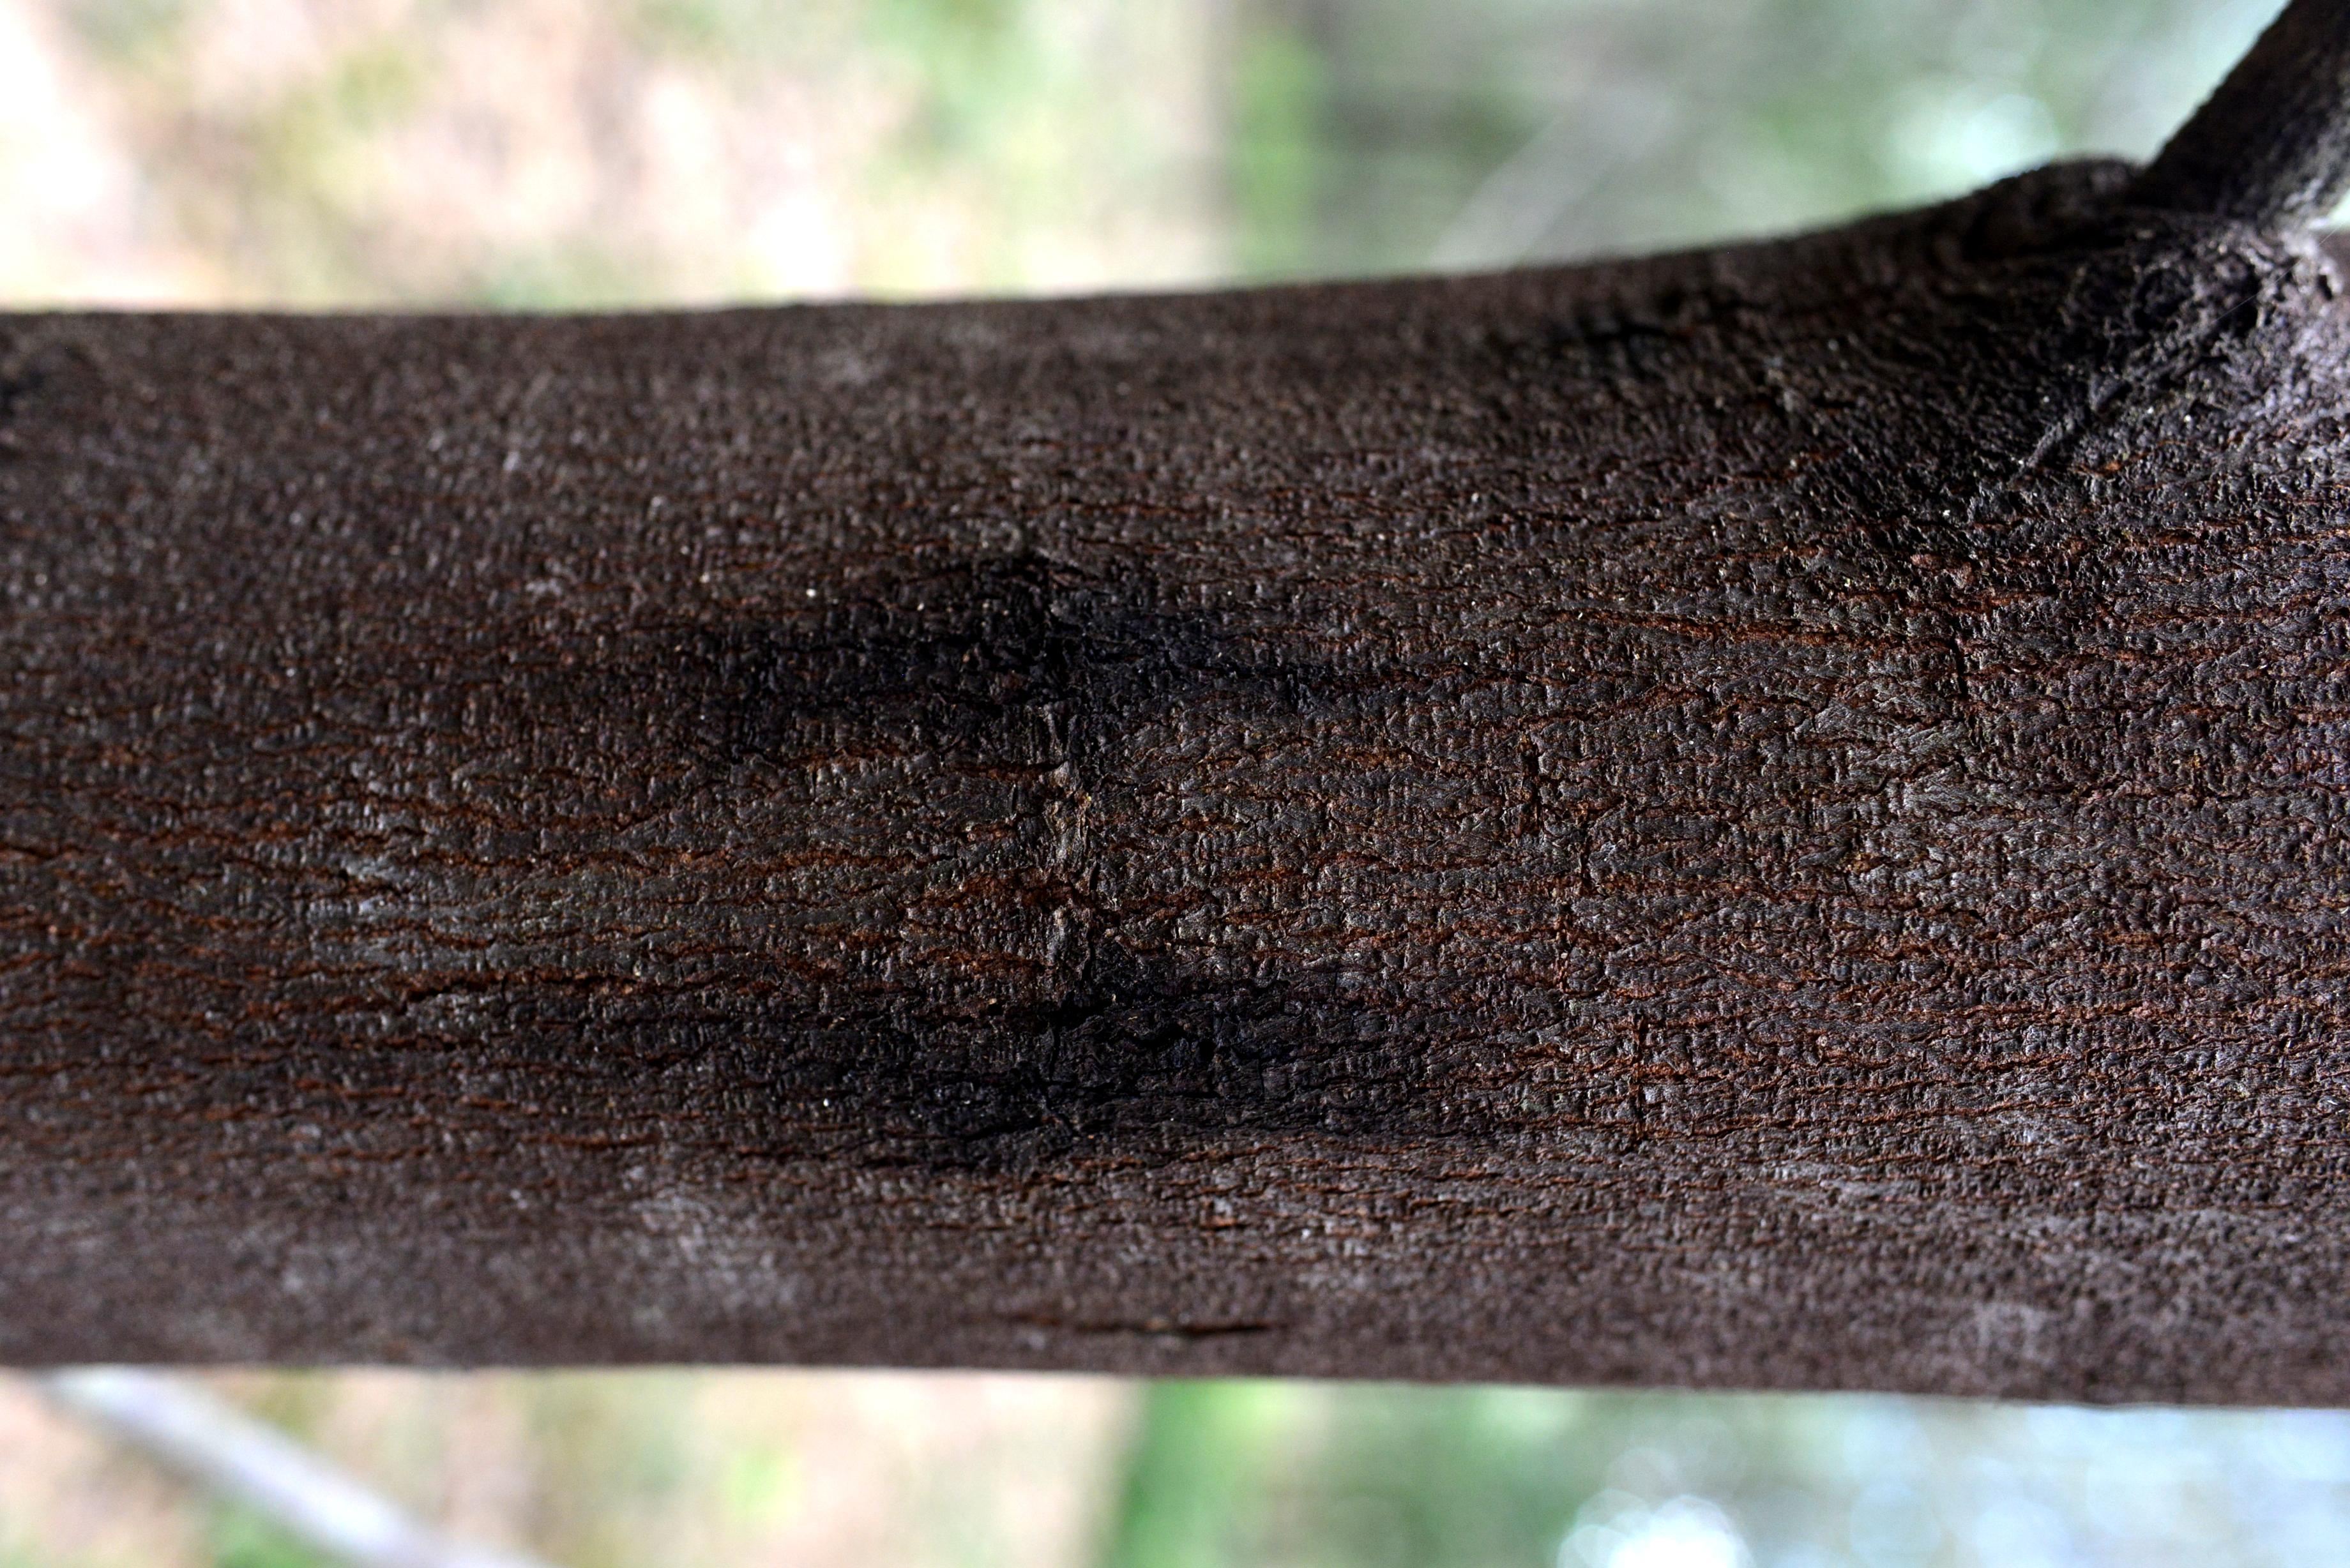Stem Borer: (511, 955, 1578, 1164), (600, 546, 1491, 786), (1857, 247, 2285, 520)
